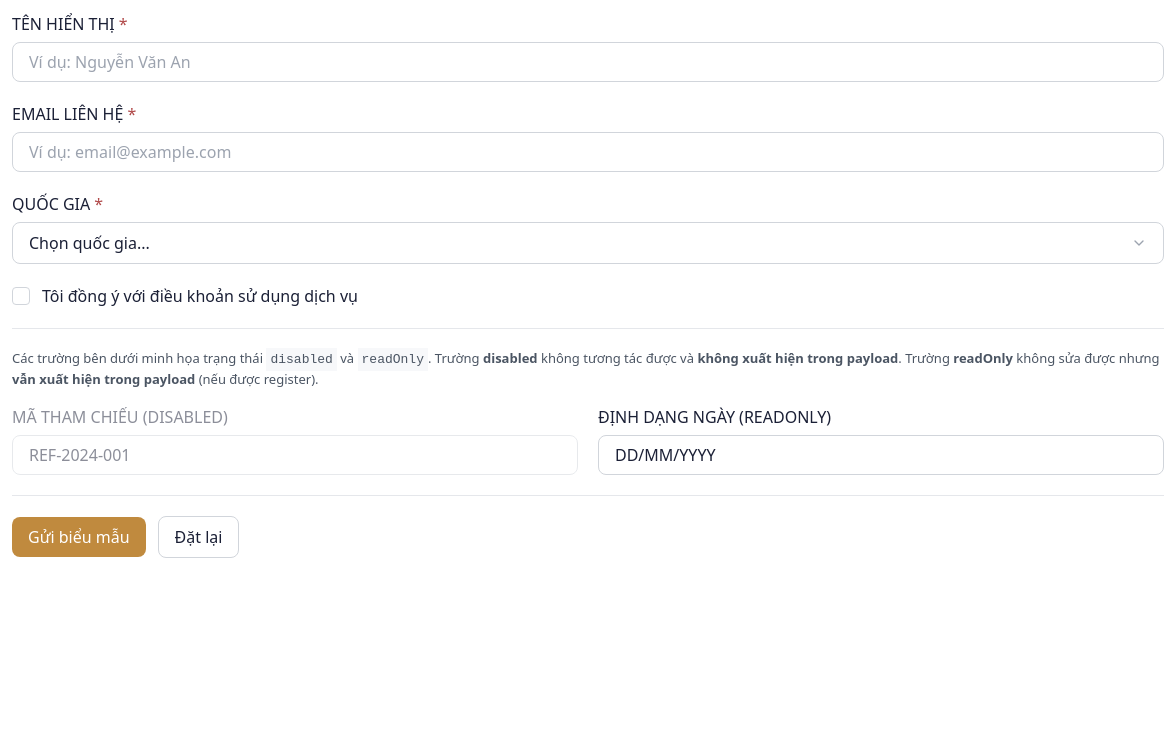
Test: FormFoundationDemo › §9.13 CRITICAL — focus jumps to FIRST field in FIELD_ORDER that has an error (not necessarily DOM first)
// displayName: hợp lệ (không có lỗi)
Type "Nguyễn An" into the field labelled "Tên hiển thị *".
click(588, 62); type("Nguyễn An")  # box x1=13 y1=43 x2=1163 y2=81
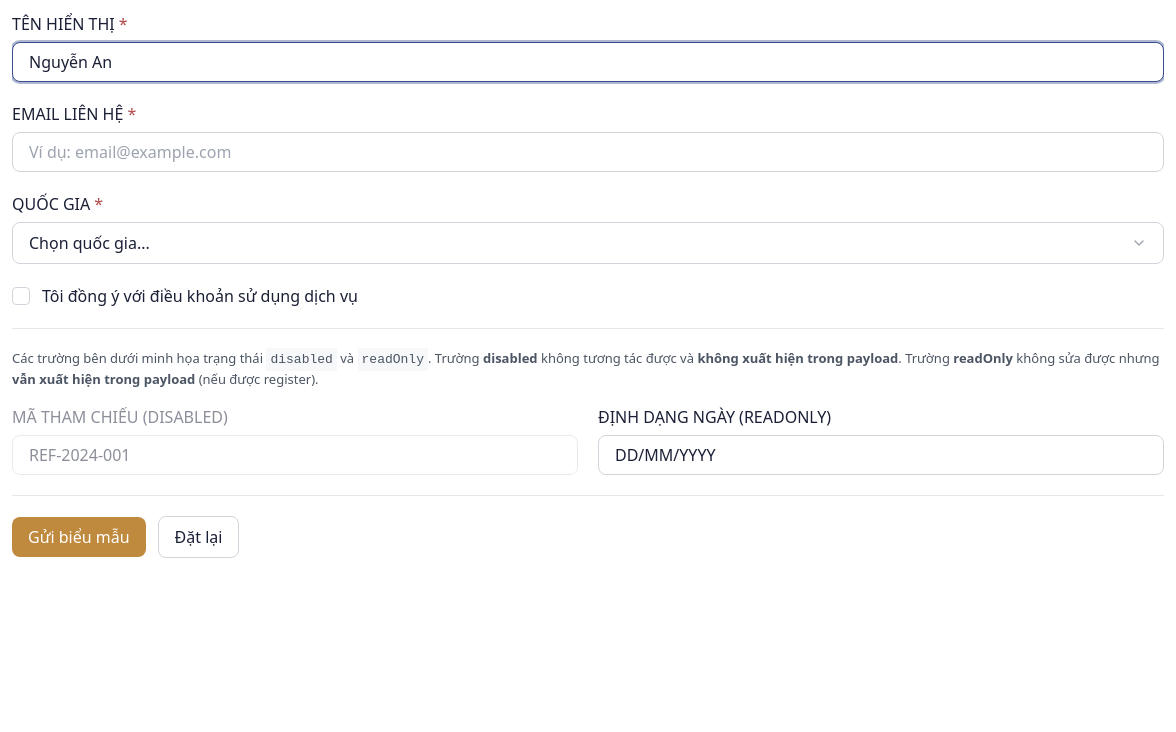
Select "Việt Nam" in the dropdown with test id "native-select" at [58, 204], box x1=12 y1=193 x2=103 y2=215
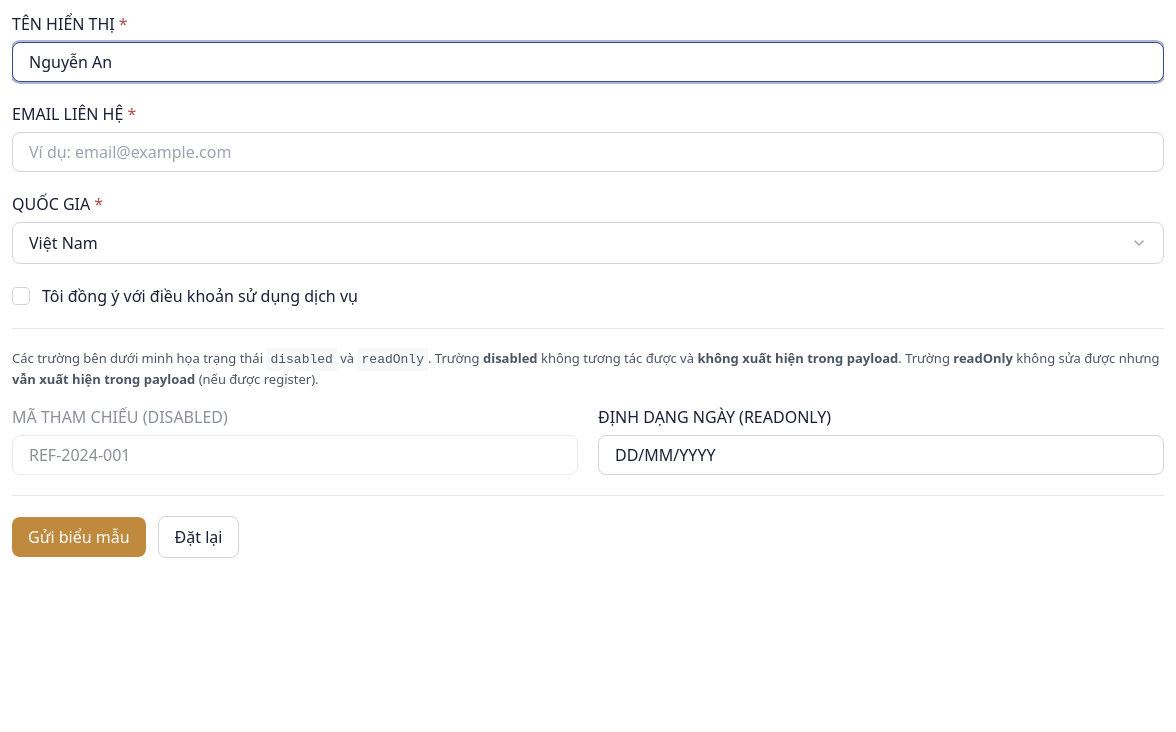
// agreeToTerms: tick (không có lỗi)
Click the checkbox labelled "Tôi đồng ý với điều khoản sử dụng dịch vụ".
click(200, 296)  # box x1=42 y1=284 x2=358 y2=308
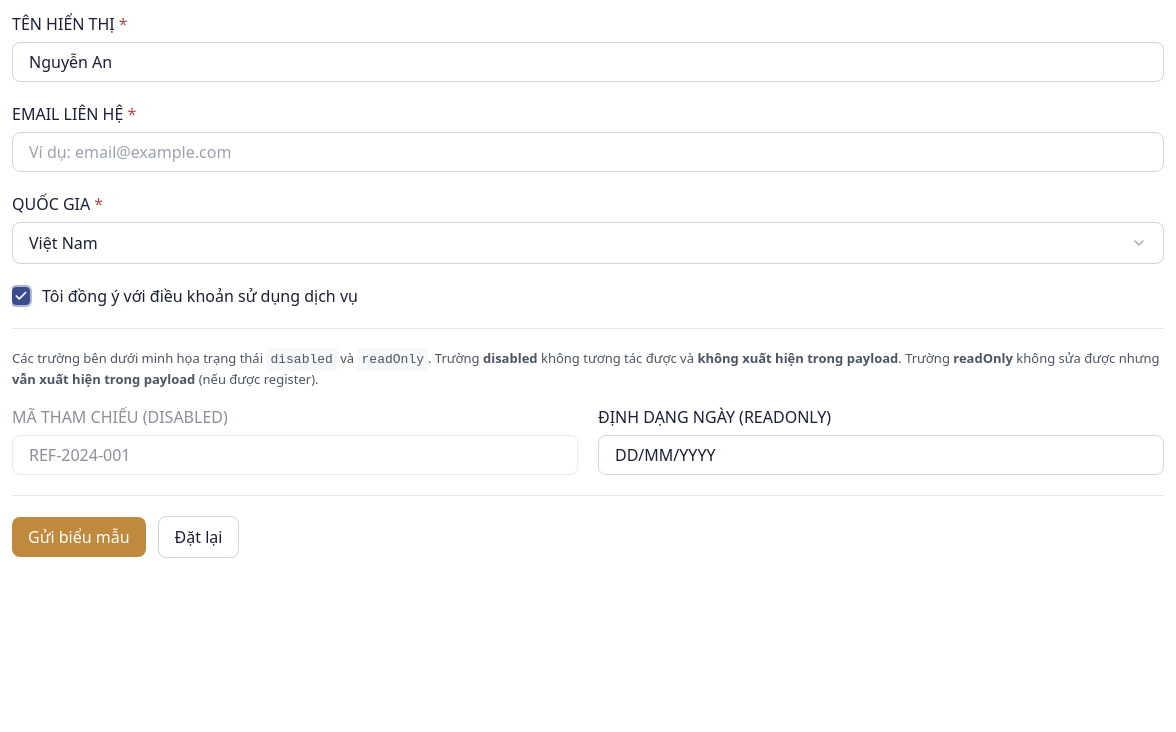
Click the button "Gửi biểu mẫu".
click(79, 537)  # box x1=12 y1=517 x2=146 y2=557
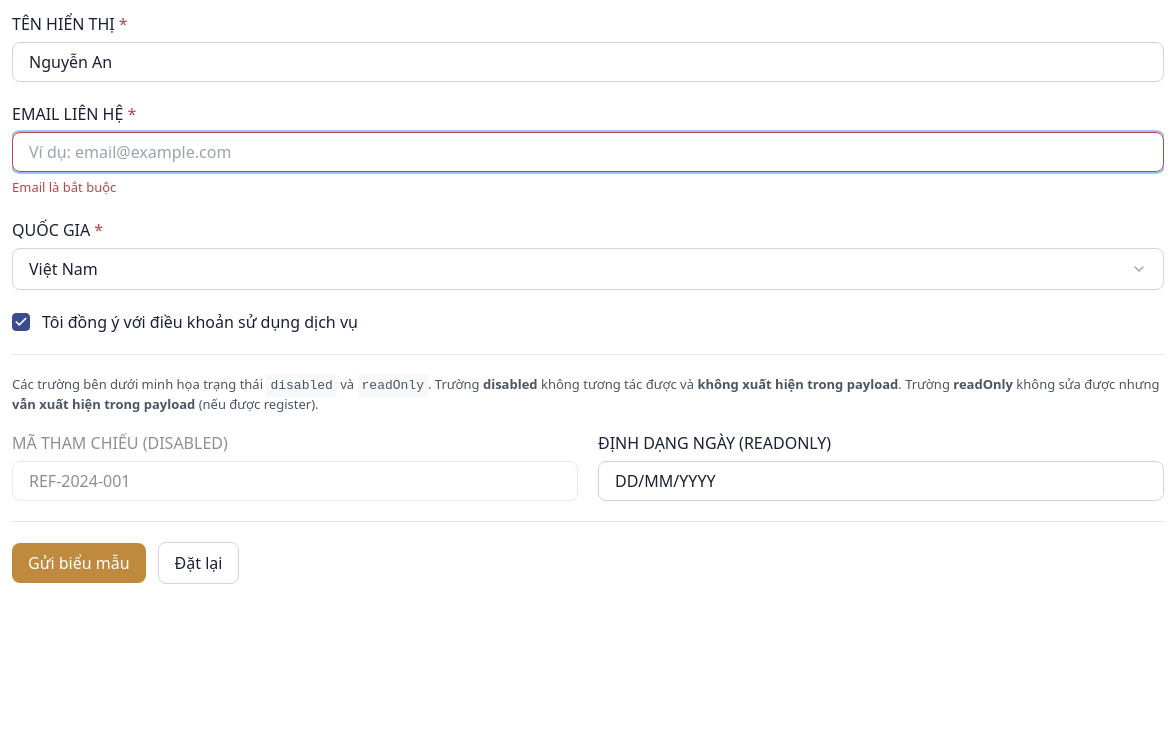
Expected: the text "Email là bắt buộc" is shown, x1=12 y1=178 x2=116 y2=196
